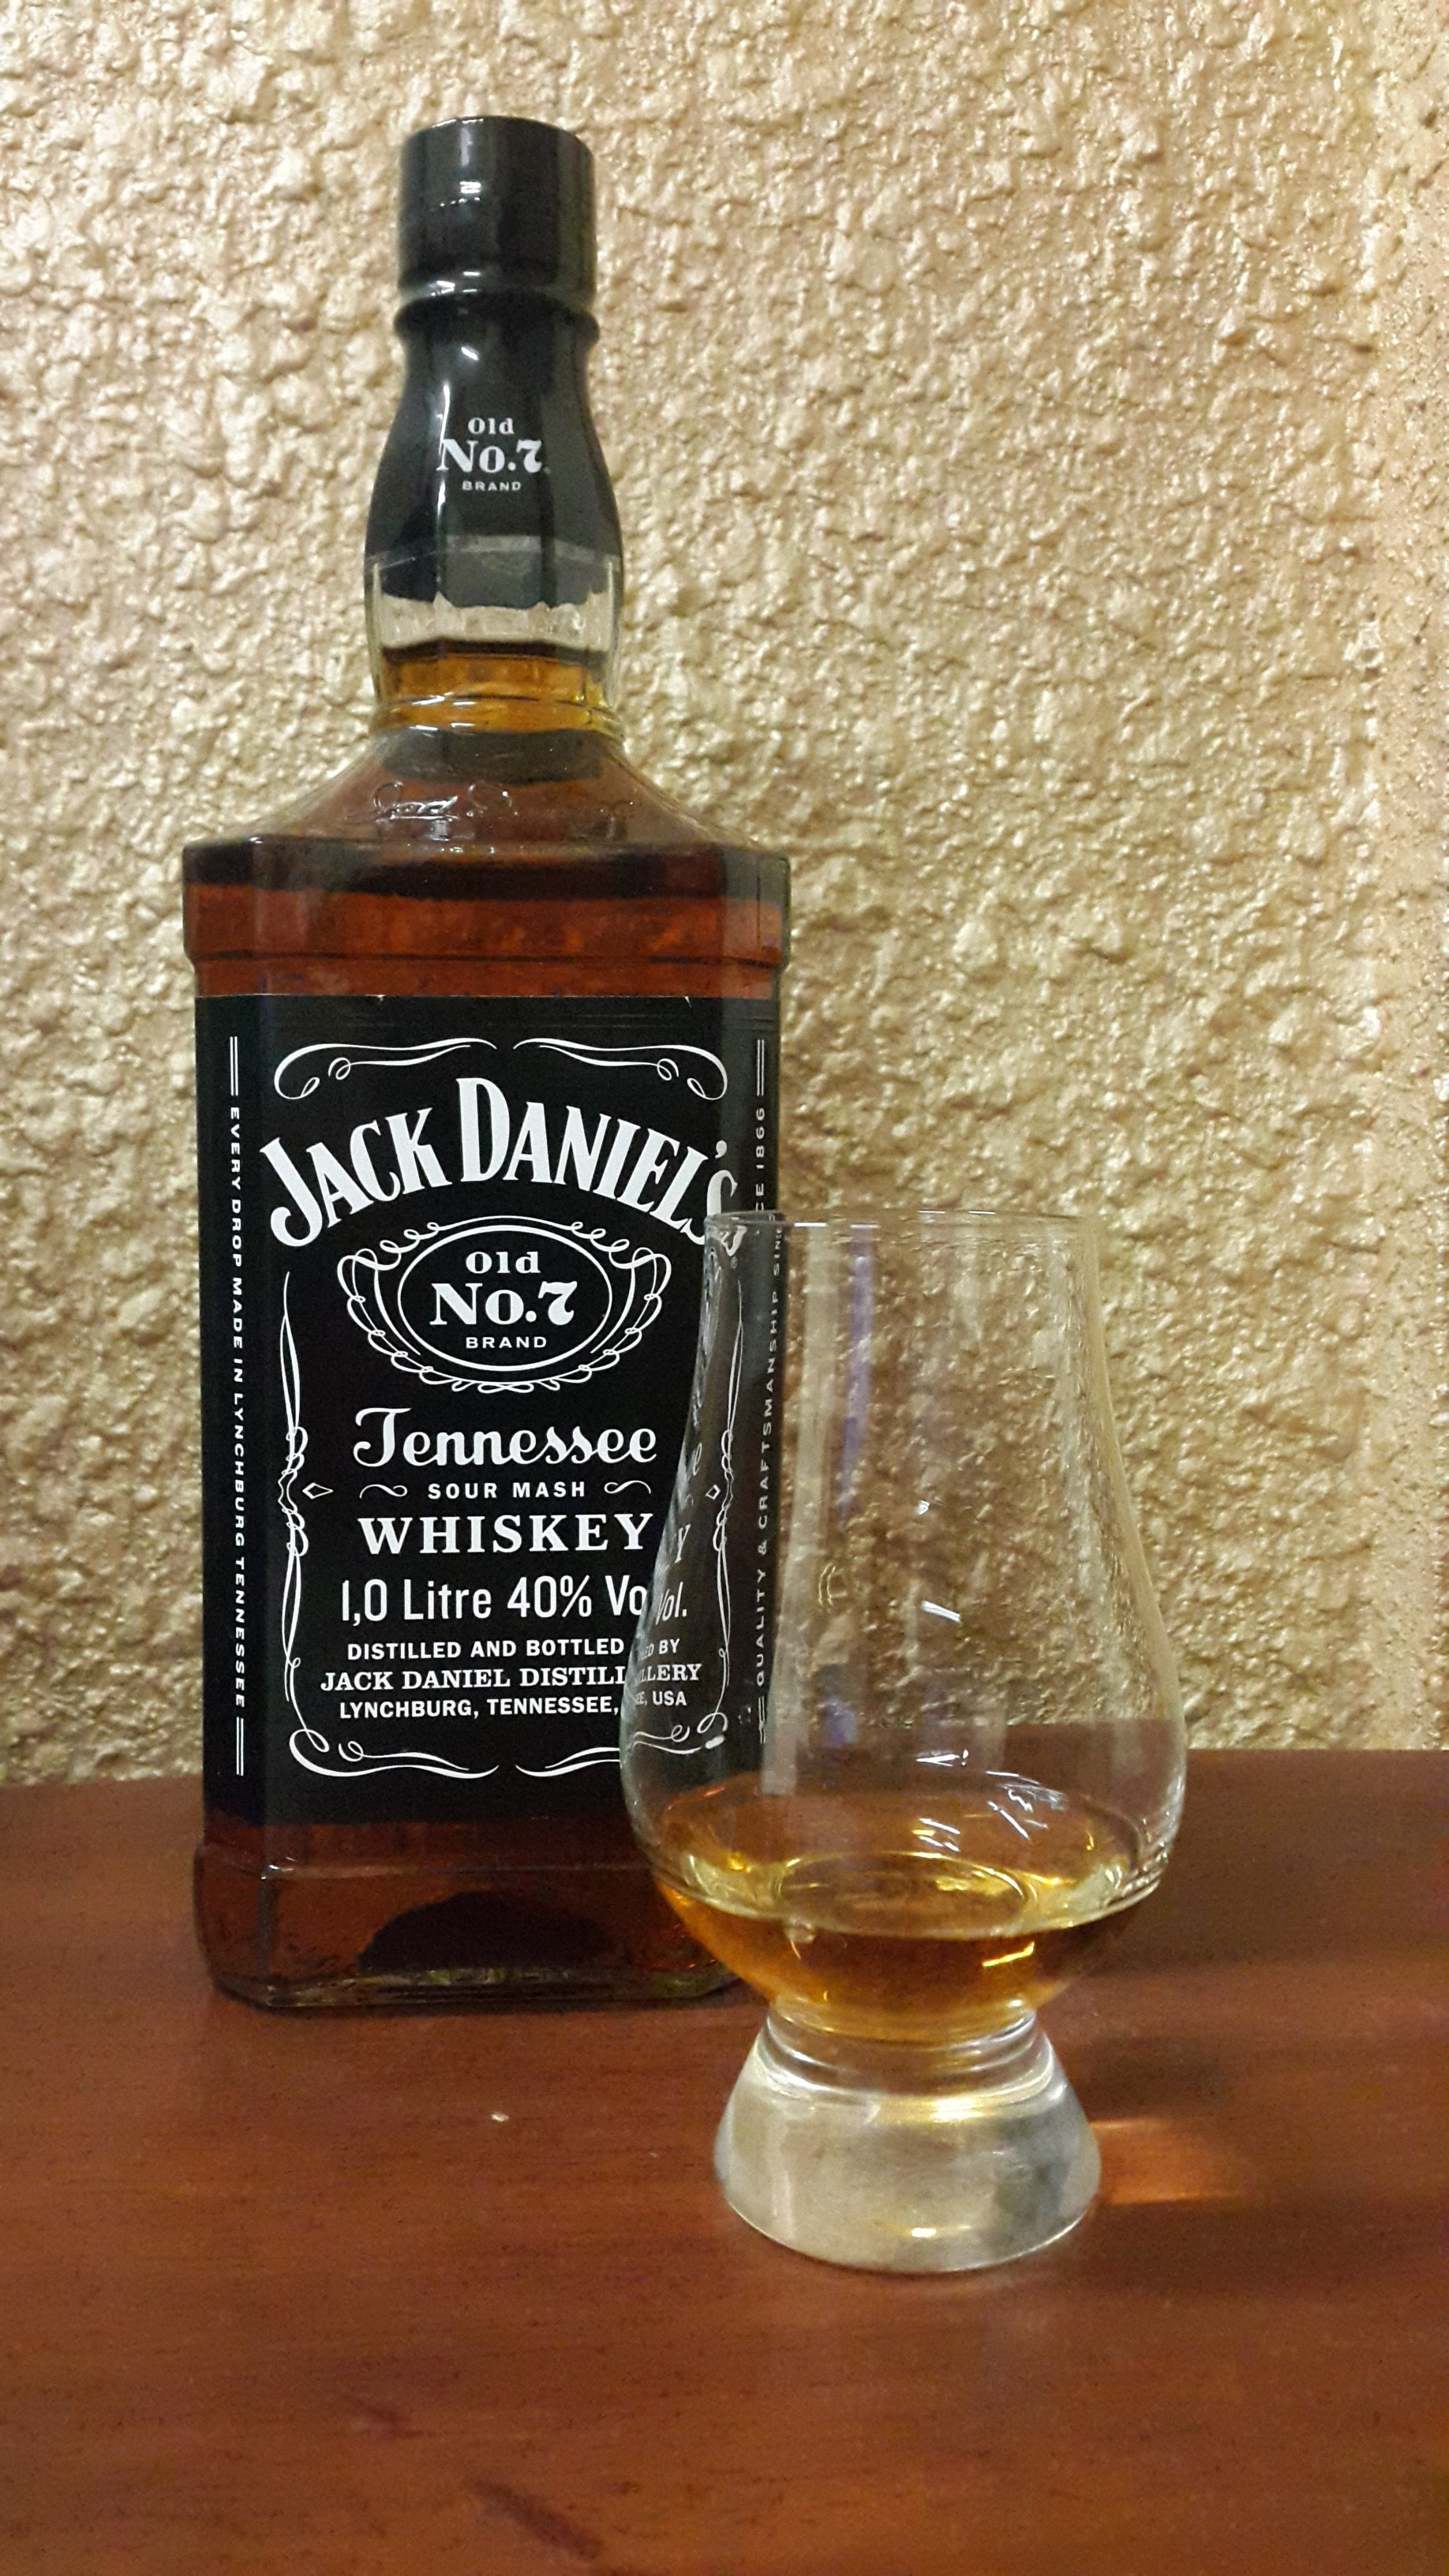Jack Daniel: (136, 78, 833, 2049)
